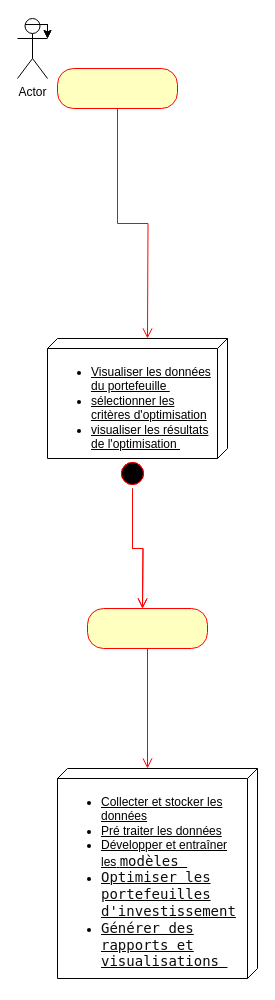
The diagram is 275 pixels wide and 1000 high, and some of its shapes have lost their labels. Here are the shapes that lost their labels. From the top down, the box of each, then its label:
(56, 68, 178, 108): utilisateur
(86, 608, 208, 648): système
